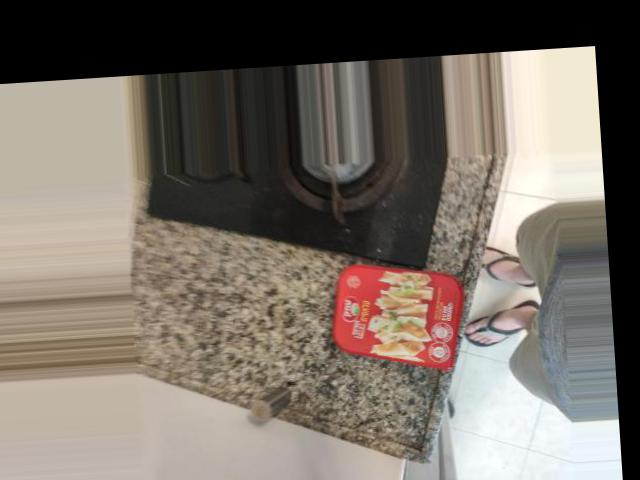cheese: (201, 255, 364, 393)
